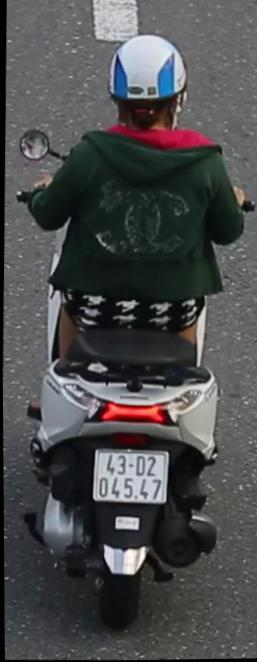LP: (88, 445, 171, 513)
helmet: (102, 28, 190, 138)
